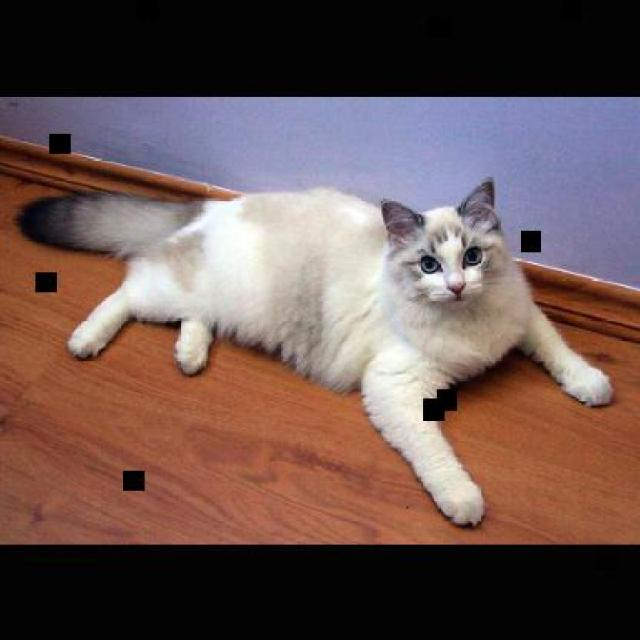unauthorized: (15, 177, 614, 528)
